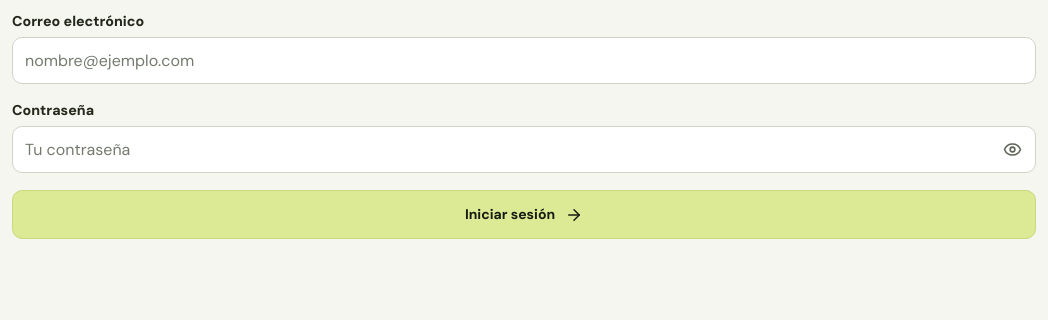
Scenario: muestra un error de Firebase en español y permite volver a intentar
Step 1. Type "persona@example.com" into the field labelled "Correo electrónico" → (524, 60), box [12, 37, 1036, 84]
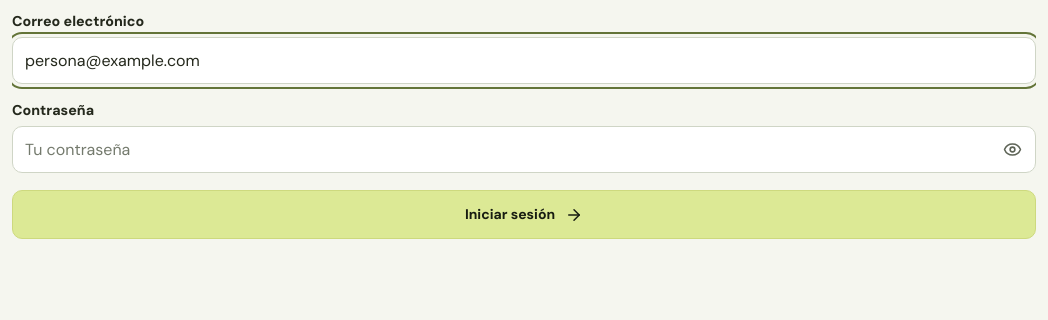
Step 2. Type "password" into the password field labelled "Contraseña" → (524, 150), box [12, 126, 1036, 173]
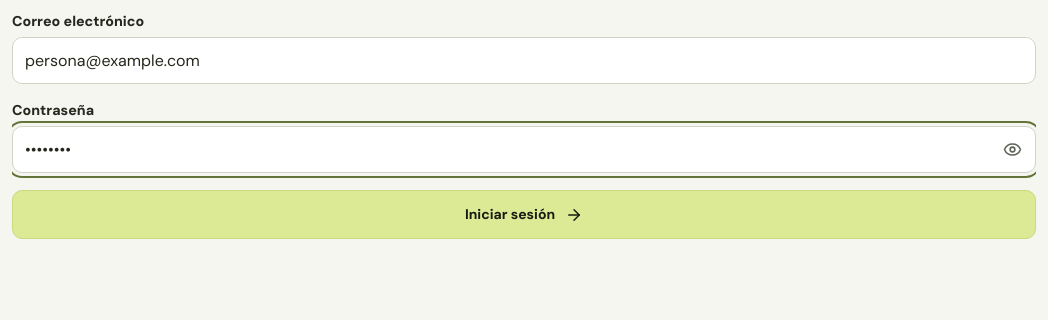
Step 3. Click the button "Iniciar sesión" → (524, 214), box [12, 190, 1036, 239]
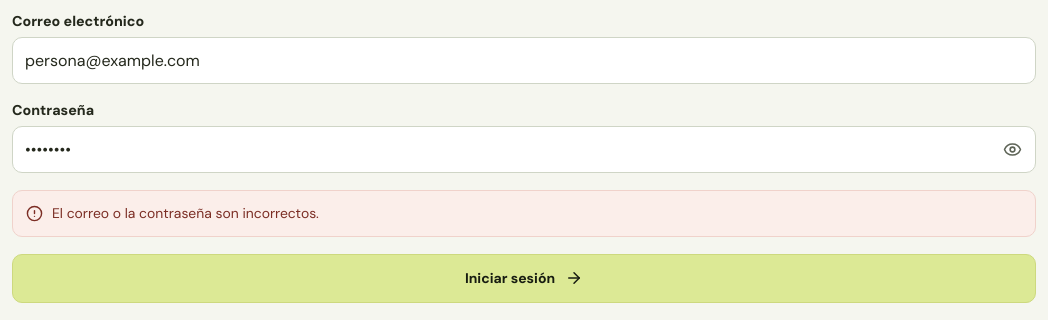
Expected: the button "Iniciar sesión" is enabled, [12, 254, 1036, 303]
Expected: the message reads "El correo o la contraseña son incorrectos.", [52, 204, 319, 222]
